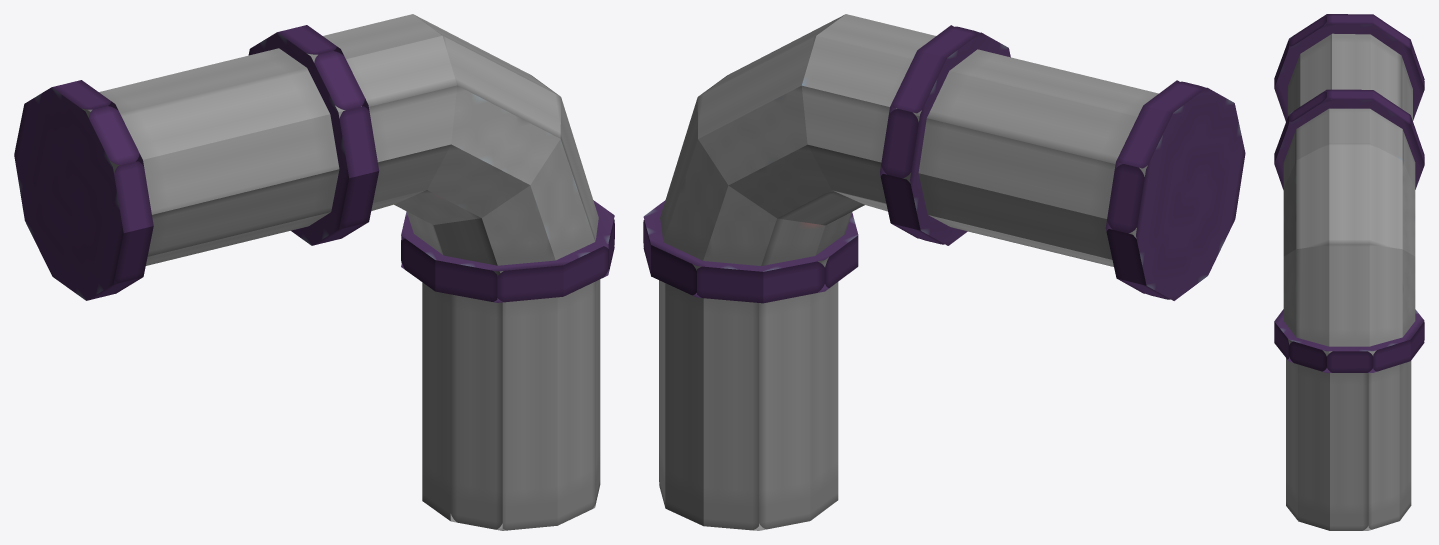
The model's file is pipeCurve.fbx.
3 renders of one model, left to right at view 1: azimuth 30°, elevation 25°; view 2: azimuth 150°, elevation 25°; view 3: azimuth 270°, elevation 25°, orthographic. The views are drawn at different scales.
Parts seen in each view (by area): view 1: torus, cylinder_4, cylinder, cylinder_1, cylinder_2, cylinder_3; view 2: torus, cylinder_4, cylinder, cylinder_1, cylinder_2, cylinder_3; view 3: torus, cylinder_4, cylinder, cylinder_3, cylinder_1, cylinder_2.
Boxes of the visible parts, left/top/right/bottom form: torus: left=307, top=14, right=598, bottom=276; cylinder_4: left=422, top=279, right=600, bottom=530; cylinder: left=82, top=48, right=345, bottom=265; cylinder_1: left=14, top=80, right=153, bottom=300; cylinder_2: left=248, top=25, right=379, bottom=245; cylinder_3: left=401, top=200, right=614, bottom=302; torus: left=660, top=14, right=935, bottom=270; cylinder_4: left=659, top=257, right=838, bottom=530; cylinder: left=903, top=49, right=1158, bottom=266; cylinder_1: left=1105, top=80, right=1245, bottom=300; cylinder_2: left=880, top=25, right=1010, bottom=245; cylinder_3: left=643, top=200, right=858, bottom=303; torus: left=1283, top=108, right=1415, bottom=356; cylinder_4: left=1286, top=339, right=1411, bottom=530; cylinder: left=1287, top=33, right=1412, bottom=120; cylinder_3: left=1274, top=309, right=1424, bottom=372; cylinder_1: left=1274, top=14, right=1424, bottom=121; cylinder_2: left=1274, top=89, right=1424, bottom=189.
Bounding box in the file's own units: 110 × 99.43 × 39.43.
1 material, 1 textured.
